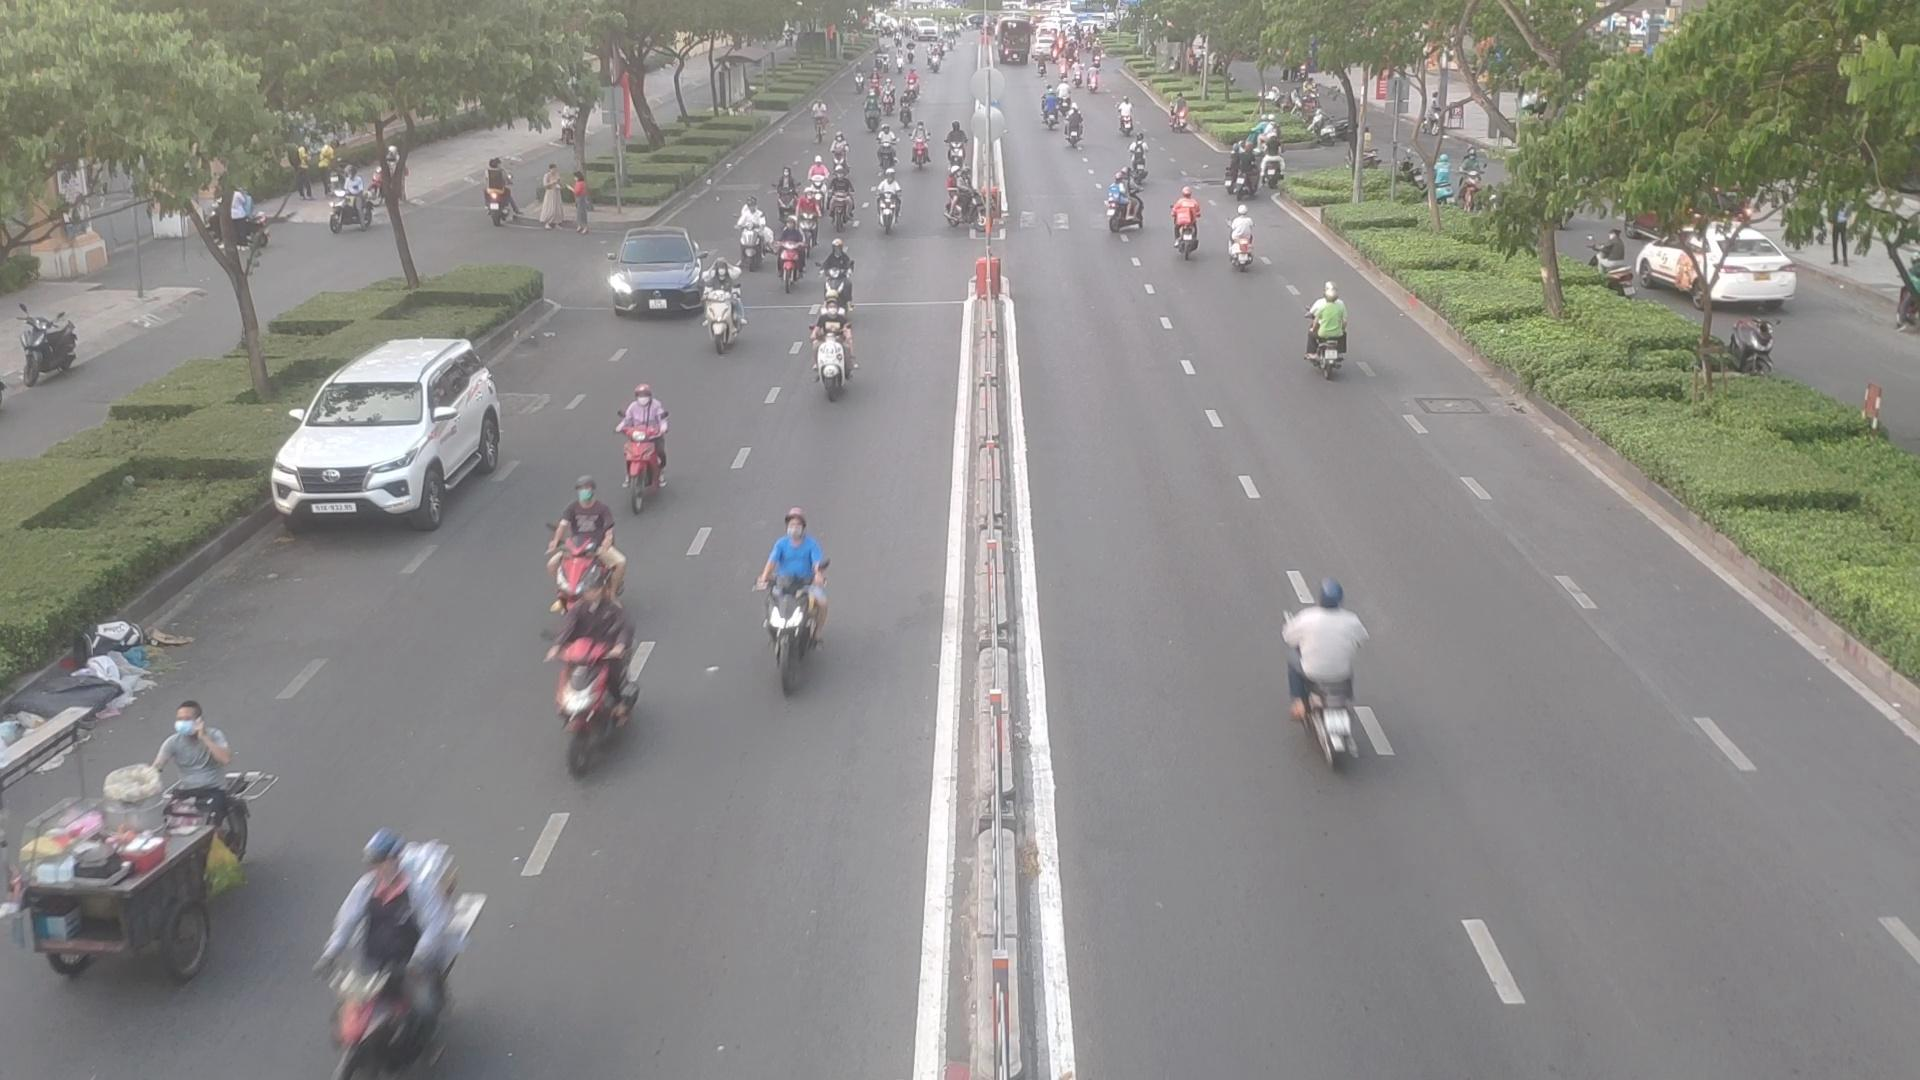car: (276, 338, 518, 531), (601, 232, 709, 316)
motorbike: (314, 825, 476, 1077), (1273, 571, 1381, 758), (545, 584, 655, 748), (756, 514, 843, 688), (150, 702, 257, 819), (541, 489, 621, 588), (608, 386, 676, 496), (800, 299, 864, 400), (1300, 287, 1362, 376), (703, 289, 753, 353), (822, 237, 861, 299), (781, 224, 818, 286), (1168, 196, 1204, 258), (1098, 186, 1142, 236), (1229, 214, 1265, 272), (870, 175, 902, 231), (736, 219, 770, 269), (828, 181, 858, 229), (796, 190, 823, 241), (829, 131, 852, 181), (911, 131, 938, 170), (1062, 109, 1087, 150), (874, 123, 899, 162), (777, 167, 798, 214), (1127, 156, 1155, 189), (807, 157, 825, 206)
